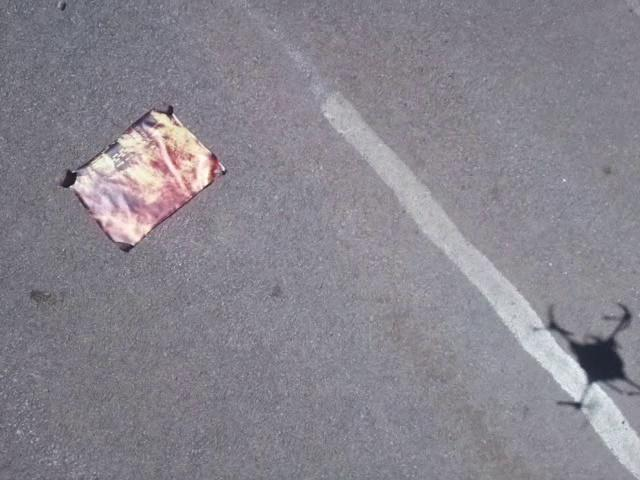fire-poster: (60, 103, 228, 254)
